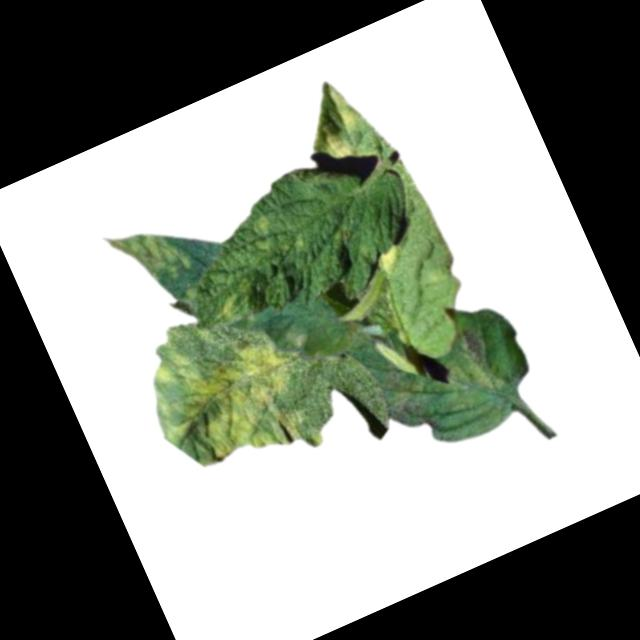Leaf_Mold: (131, 315, 325, 504), (100, 209, 196, 301), (440, 323, 507, 403), (323, 74, 367, 133), (317, 128, 354, 167), (210, 289, 245, 324), (245, 211, 277, 246), (372, 244, 404, 276)
